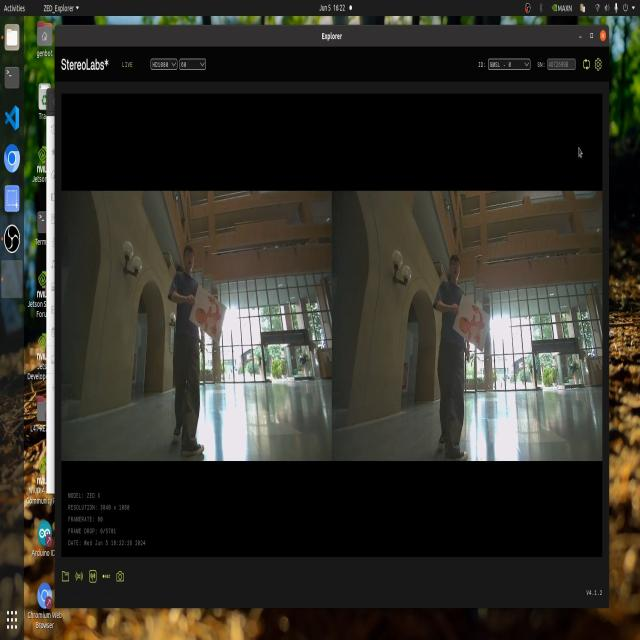red: (186, 282, 222, 335), (464, 287, 482, 353)
